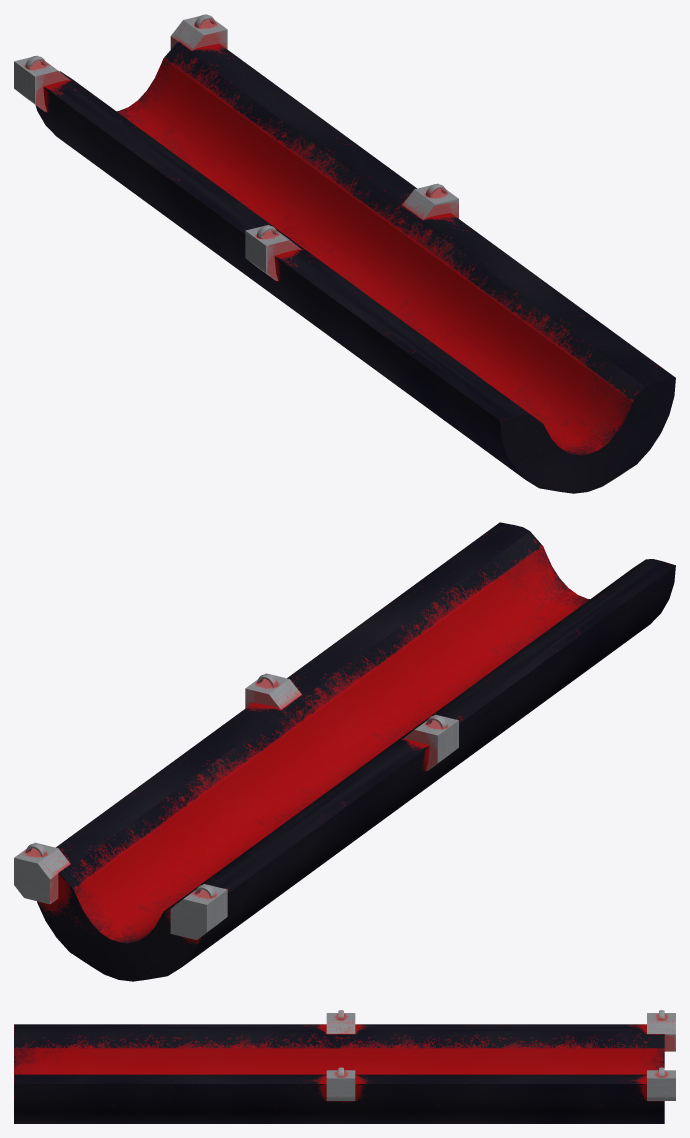
Rendered from zdlabuk.fbx.
The picture shows the model from 3 angles, top to bottom: view 1: azimuth 30°, elevation 25°; view 2: azimuth 150°, elevation 25°; view 3: azimuth 270°, elevation 25°; orthographic projection. The views are drawn at different scales.
Visible parts, largest first — view 1: Cube.002; view 2: Cube.002; view 3: Cube.002.
Boxes of the visible parts, x1,y1,x2,y2 form: Cube.002: (14, 14, 675, 493); Cube.002: (14, 522, 675, 981); Cube.002: (14, 1010, 675, 1123).
Bounding box in the file's own units: 54.61 × 30.81 × 234.
